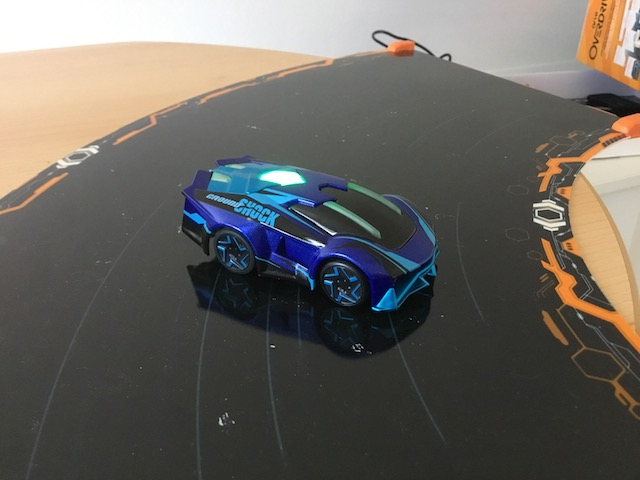car-blue: (173, 148, 442, 322)
